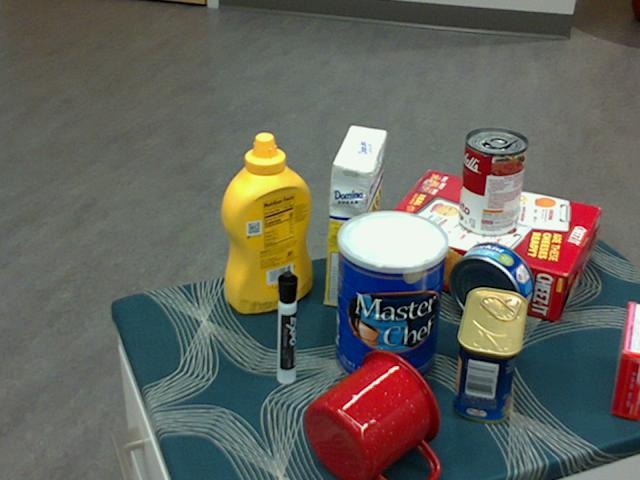cracker_box: (376, 172, 597, 318)
gelatin_box: (610, 302, 639, 420)
large_marker: (275, 270, 296, 386)
master_chef_can: (336, 210, 450, 390)
mug: (304, 349, 442, 479)
mustard_bottle: (220, 133, 312, 314)
potted_meat_can: (455, 288, 527, 423)
sugar_box: (323, 126, 387, 312)
tomato_soup_can: (459, 129, 528, 238)
tuna_fish_can: (449, 241, 535, 326)
